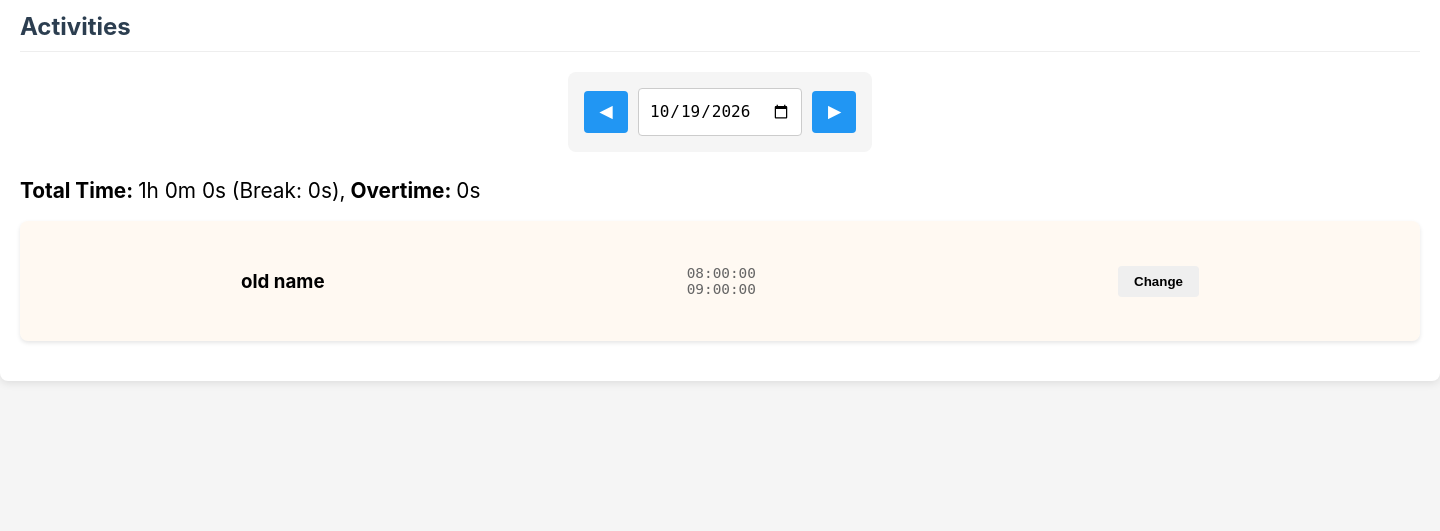
Scenario: ActivityOverview › reloads after an activity was changed
expect the heading "old name" is shown: met, box [241,270,324,292]
Click the button "Change" at x=1159, y=281, box [1118,266,1199,296]
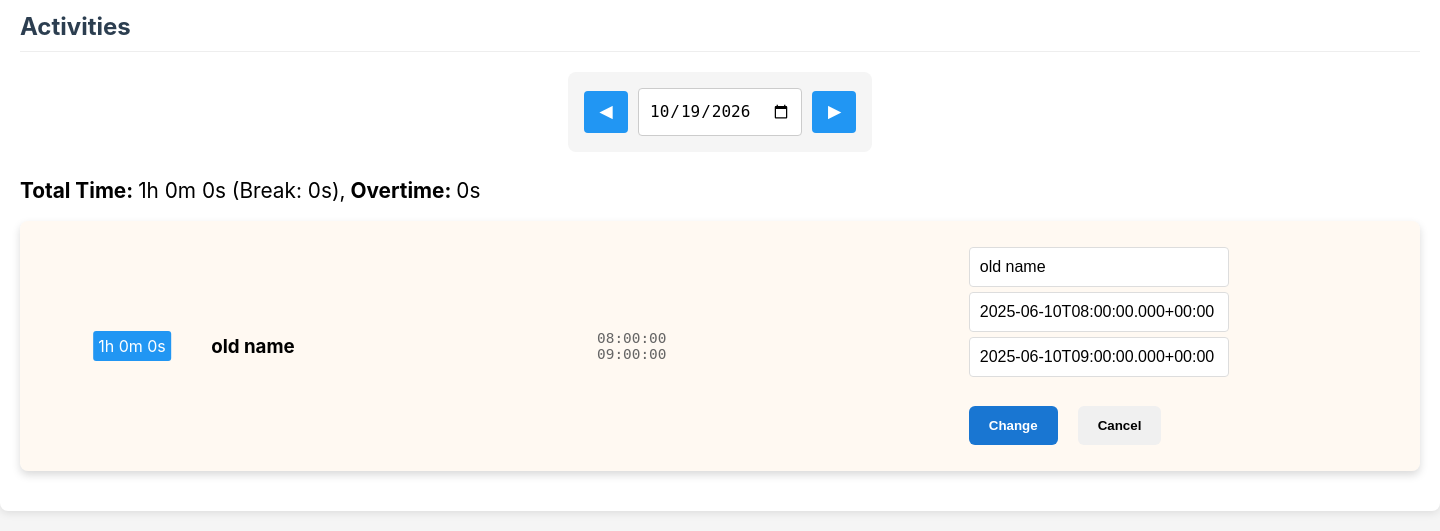
Replace the text in the 1st field with placeholder "Project name" with "new name" at x=1099, y=267, box [969,247,1229,287]
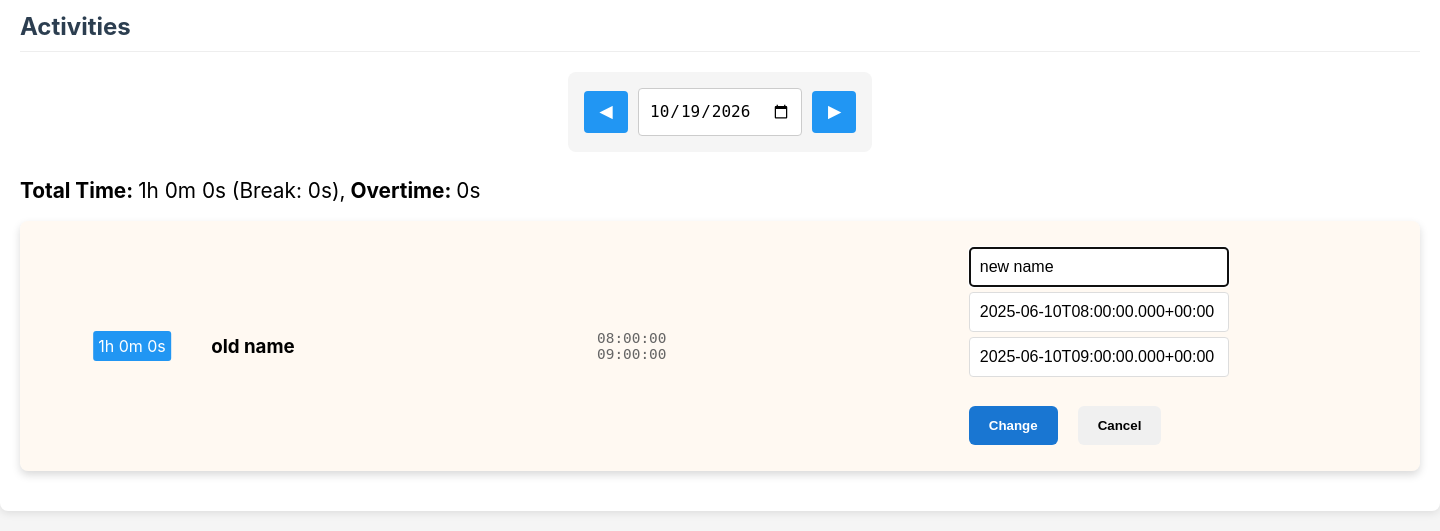
Click the button "Change" at x=1013, y=426, box [969,406,1058,445]
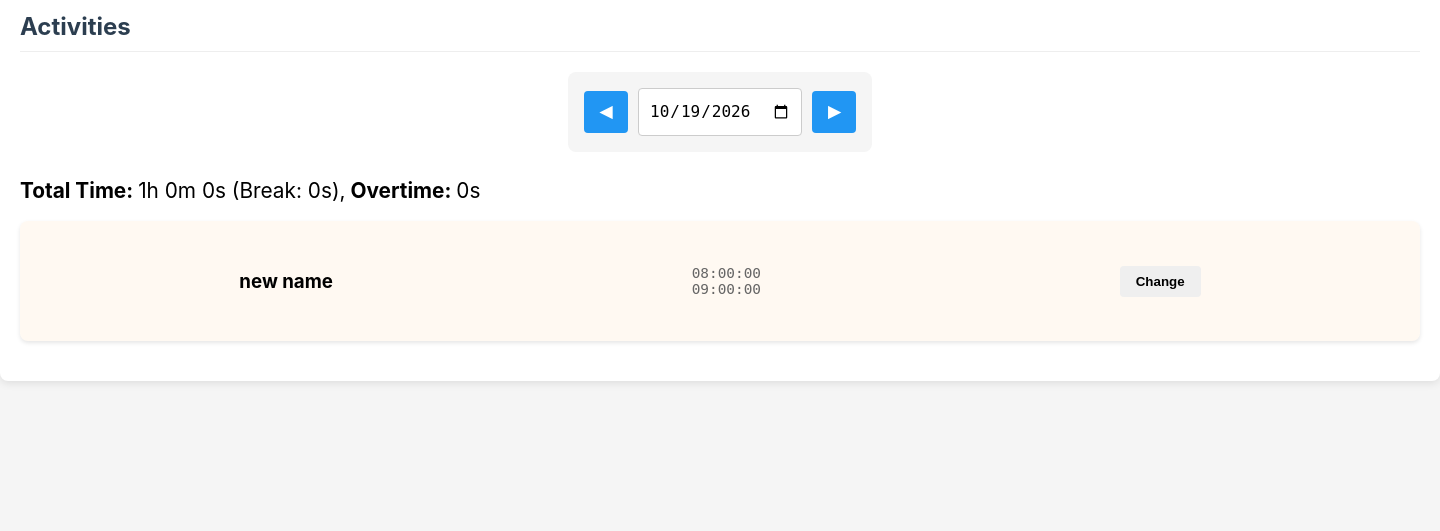
expect the heading "new name" is shown: met, box [239,270,333,292]
